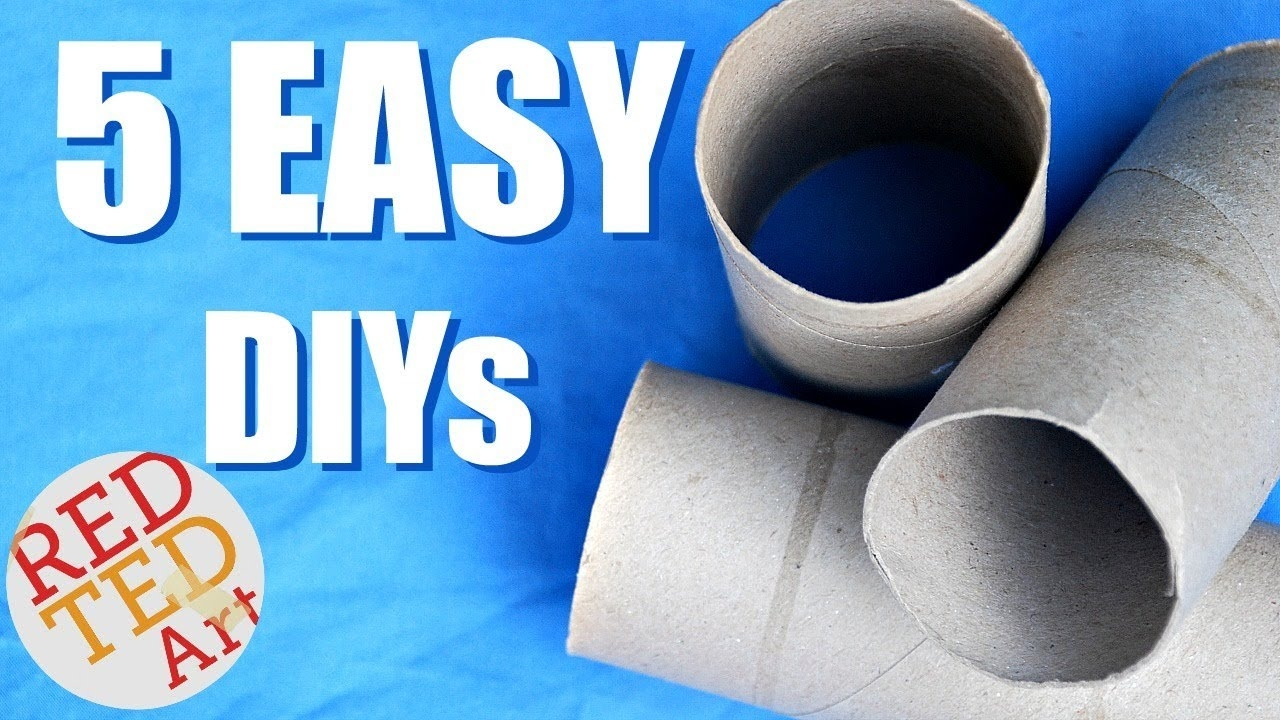paper: (856, 1, 1280, 702), (539, 348, 1280, 717), (677, 1, 1089, 431)
